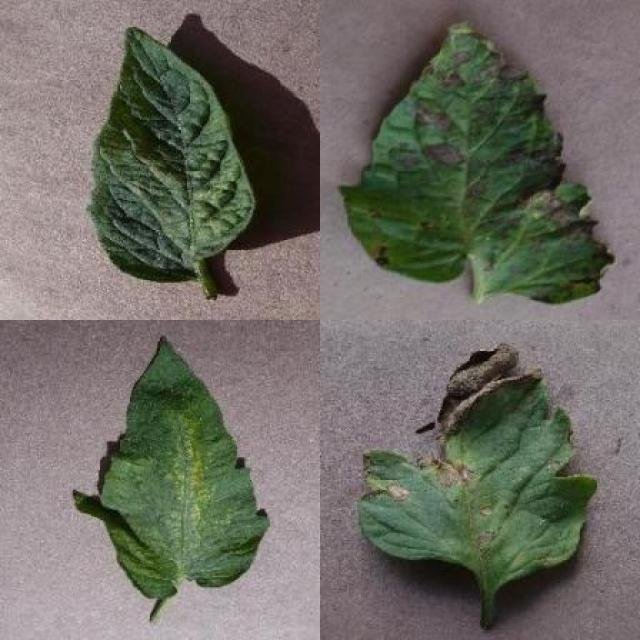Early Blight: (338, 21, 615, 306), (354, 341, 600, 586)
Spider Mites: (72, 335, 269, 598), (90, 24, 254, 285)
